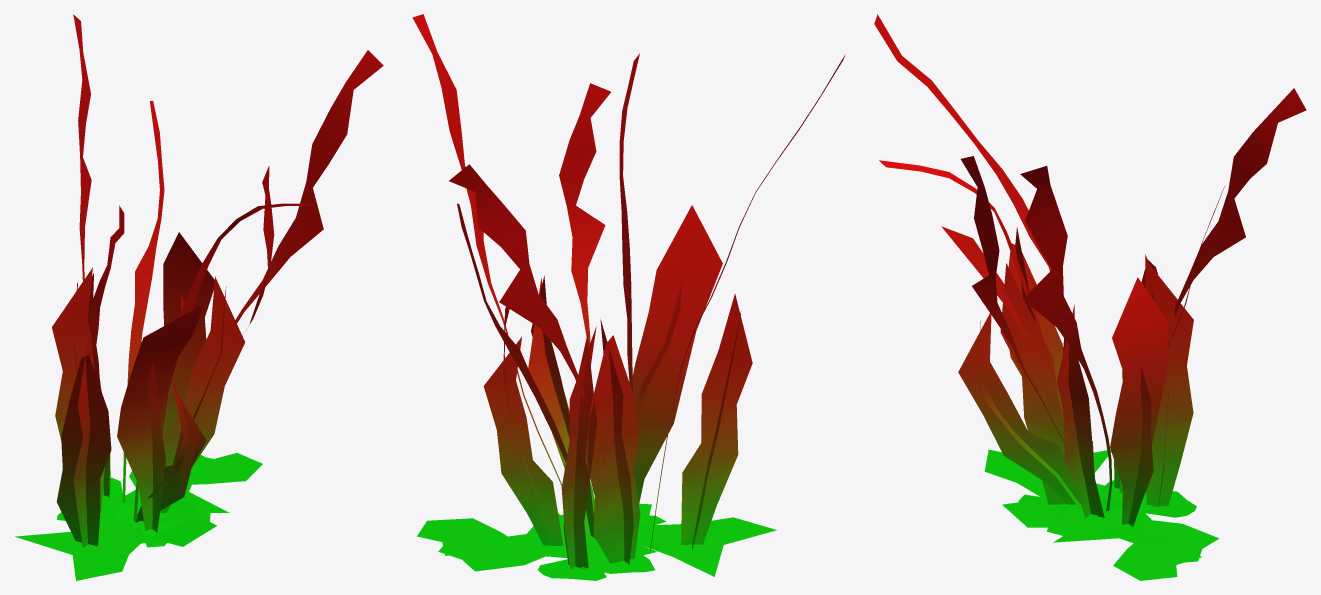
The model's file is uddmcgbia_Var5_LOD0.fbx.
3 views of the same model, side by side, from view 1: azimuth 30°, elevation 25°; view 2: azimuth 150°, elevation 25°; view 3: azimuth 270°, elevation 25° (orthographic). The views are drawn at different scales.
Visible parts, largest first — view 1: _8d2f_Var5_LOD0; view 2: _8d2f_Var5_LOD0; view 3: _8d2f_Var5_LOD0.
Boxes of the visible parts, x1,y1,x2,y2 form: _8d2f_Var5_LOD0: (15,14,383,580); _8d2f_Var5_LOD0: (412,14,845,580); _8d2f_Var5_LOD0: (874,14,1306,580).
Size of the model in its own units: 24.43 by 30.94 by 26.65.
